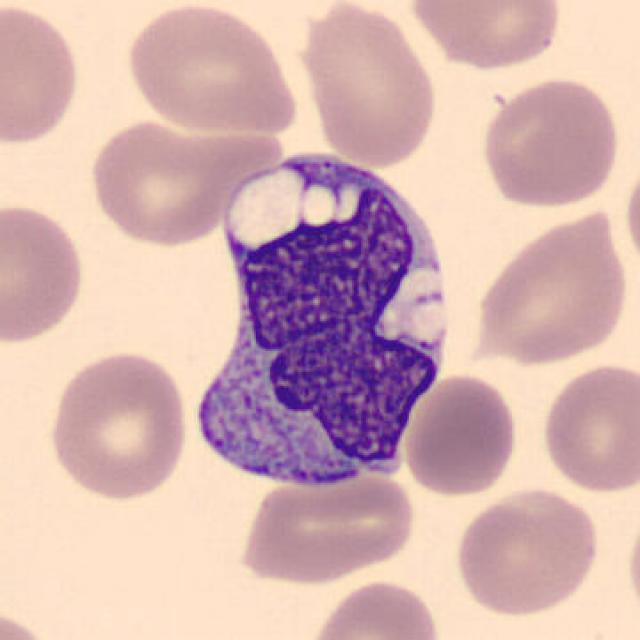Monocyte: (190, 146, 460, 501)
RBC: (469, 203, 633, 368), (119, 0, 304, 138), (293, 0, 441, 171), (82, 114, 270, 248), (44, 348, 192, 502), (235, 464, 420, 587), (476, 72, 624, 212), (452, 484, 602, 620), (402, 370, 521, 499), (537, 358, 638, 497), (0, 200, 89, 348), (0, 0, 84, 148), (407, 0, 567, 72), (302, 575, 444, 640), (620, 148, 640, 279), (0, 603, 60, 640), (624, 501, 640, 629)
